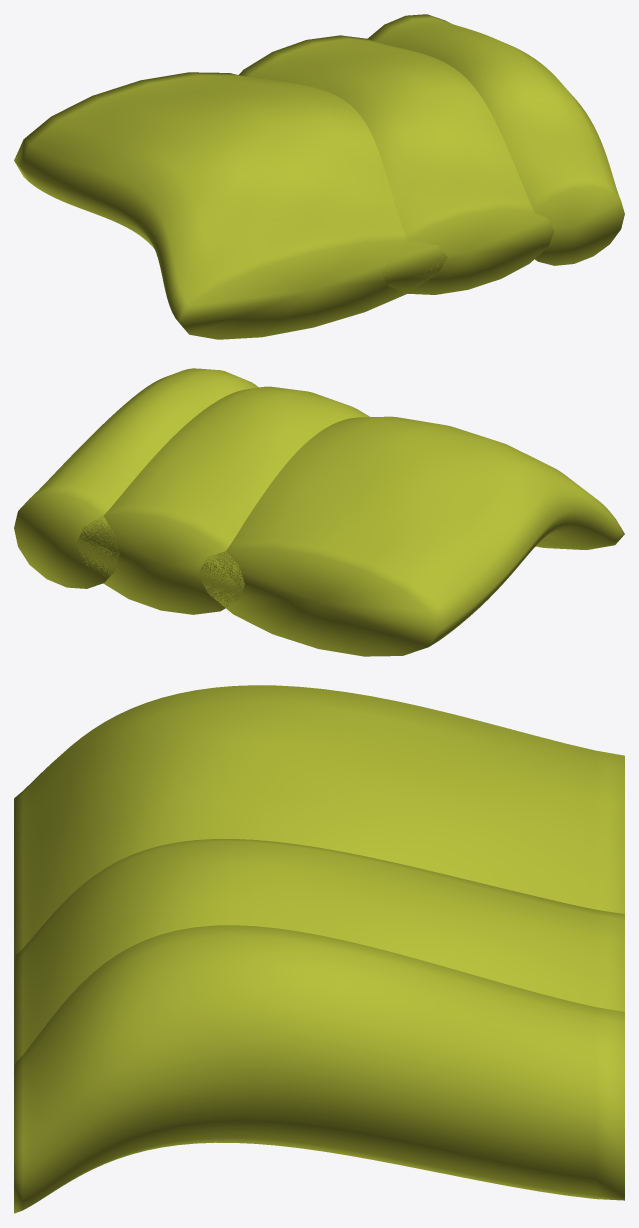
The model's file is waterfall-lip.glb.
3 views of the same model, one above another, from view 1: azimuth 30°, elevation 25°; view 2: azimuth 150°, elevation 25°; view 3: azimuth 270°, elevation 25° (orthographic). The views are drawn at different scales.
Visible parts, largest first — view 1: Syrup rounded crest pour 1, Syrup rounded crest pour 2, Syrup rounded crest pour 3; view 2: Syrup rounded crest pour 1, Syrup rounded crest pour 2, Syrup rounded crest pour 3; view 3: Syrup rounded crest pour 3, Syrup rounded crest pour 1, Syrup rounded crest pour 2.
Part boxes in pixels (x1,y1,x2,y2): Syrup rounded crest pour 1: (14, 72, 447, 339); Syrup rounded crest pour 2: (239, 35, 554, 294); Syrup rounded crest pour 3: (367, 14, 624, 265); Syrup rounded crest pour 1: (199, 416, 624, 656); Syrup rounded crest pour 2: (77, 386, 369, 614); Syrup rounded crest pour 3: (14, 368, 258, 588); Syrup rounded crest pour 3: (14, 925, 624, 1213); Syrup rounded crest pour 1: (14, 685, 624, 956); Syrup rounded crest pour 2: (14, 839, 624, 1064).
Size of the model in its own units: 1.04 by 0.332 by 0.7.
